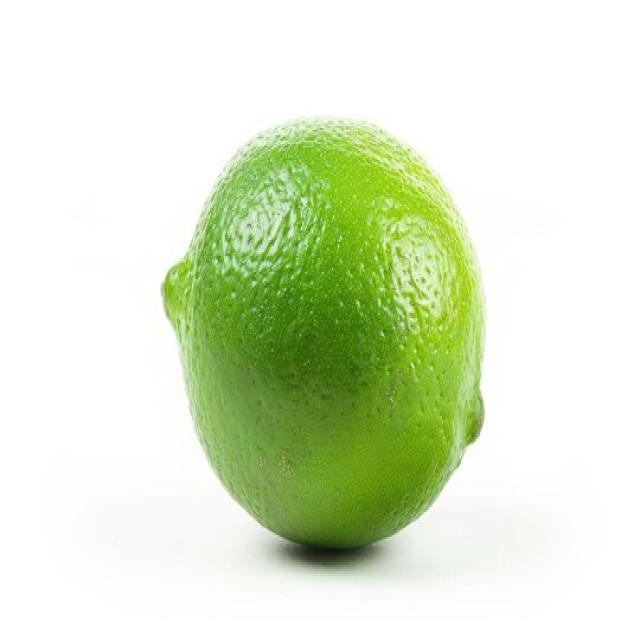Lemon: (160, 112, 486, 553)
